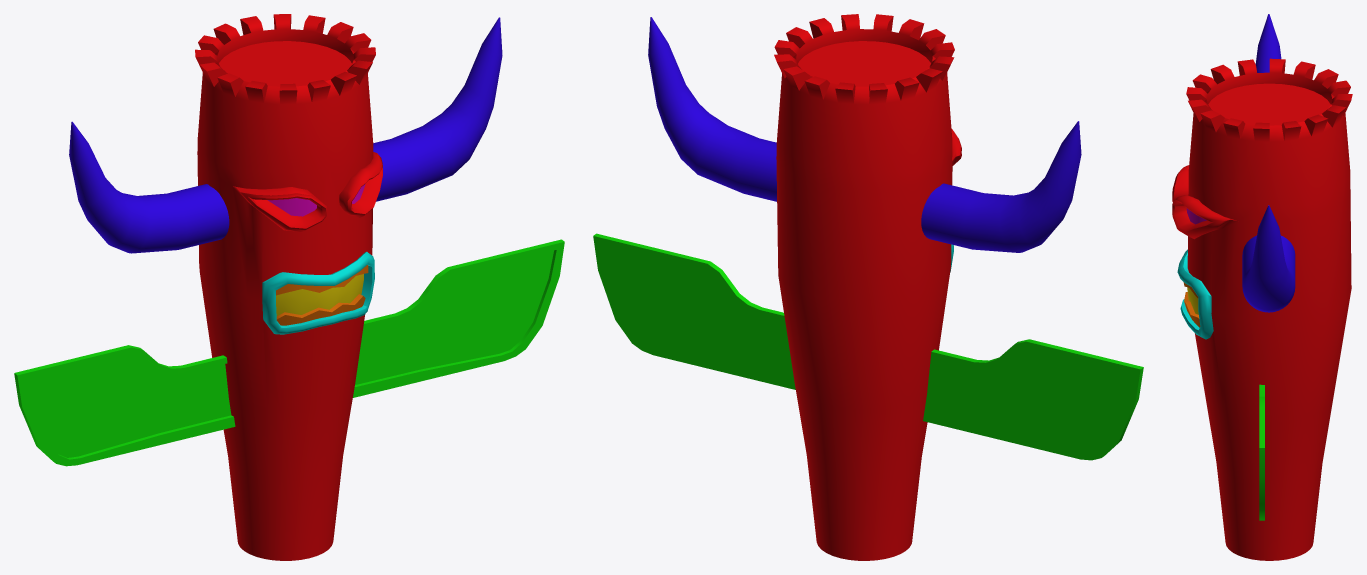
File: totem.fbx
3 views of the same model, side by side, from view 1: azimuth 30°, elevation 25°; view 2: azimuth 150°, elevation 25°; view 3: azimuth 270°, elevation 25° (orthographic). The views are drawn at different scales.
Parts seen in each view (by area): view 1: Plane.001; view 2: Plane.001; view 3: Plane.001.
Boxes of the visible parts, <box> form: Plane.001: <box>14,14,564,560</box>; Plane.001: <box>593,14,1143,560</box>; Plane.001: <box>1172,14,1352,560</box>.
Bounding box in the file's own units: 1319 × 1125 × 411.
